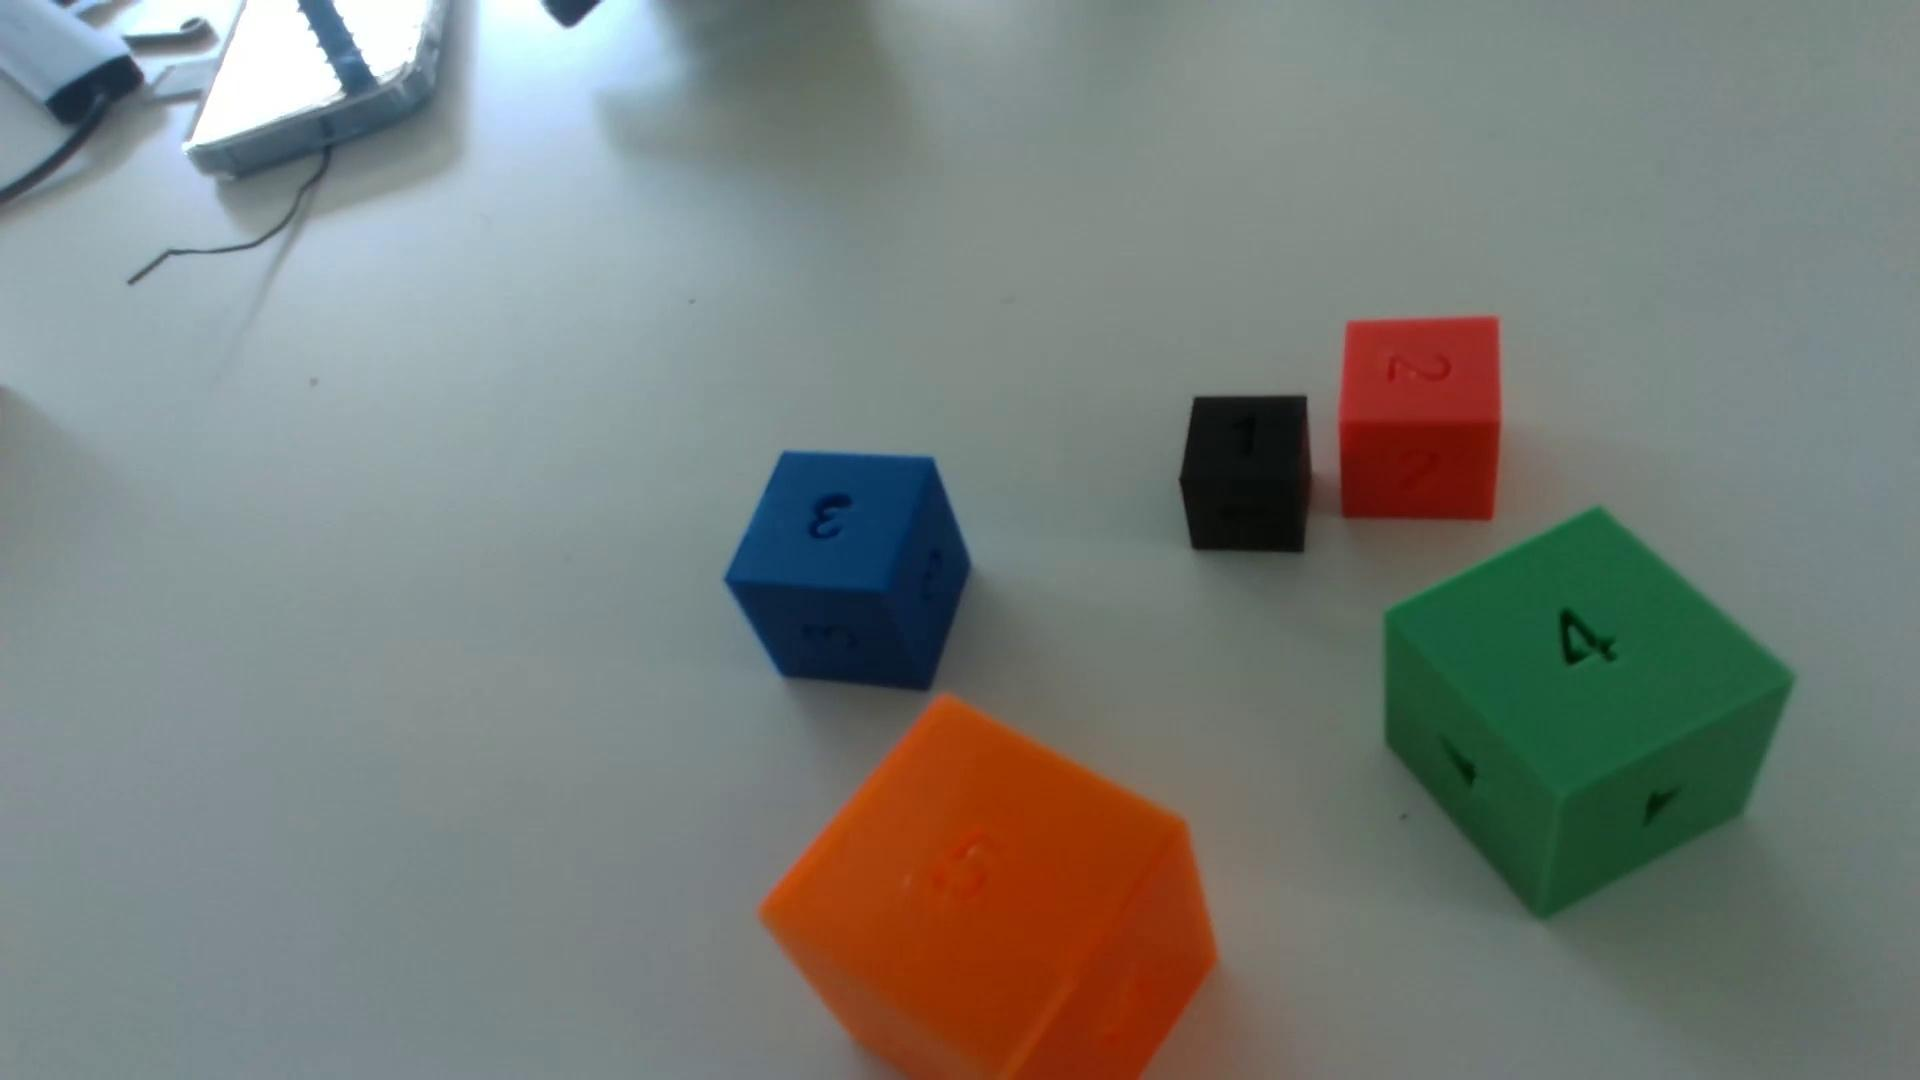black: (1178, 396, 1311, 555)
blue: (725, 452, 971, 691)
green: (1385, 510, 1793, 916)
orange: (760, 698, 1217, 1080)
red: (1338, 318, 1502, 522)
